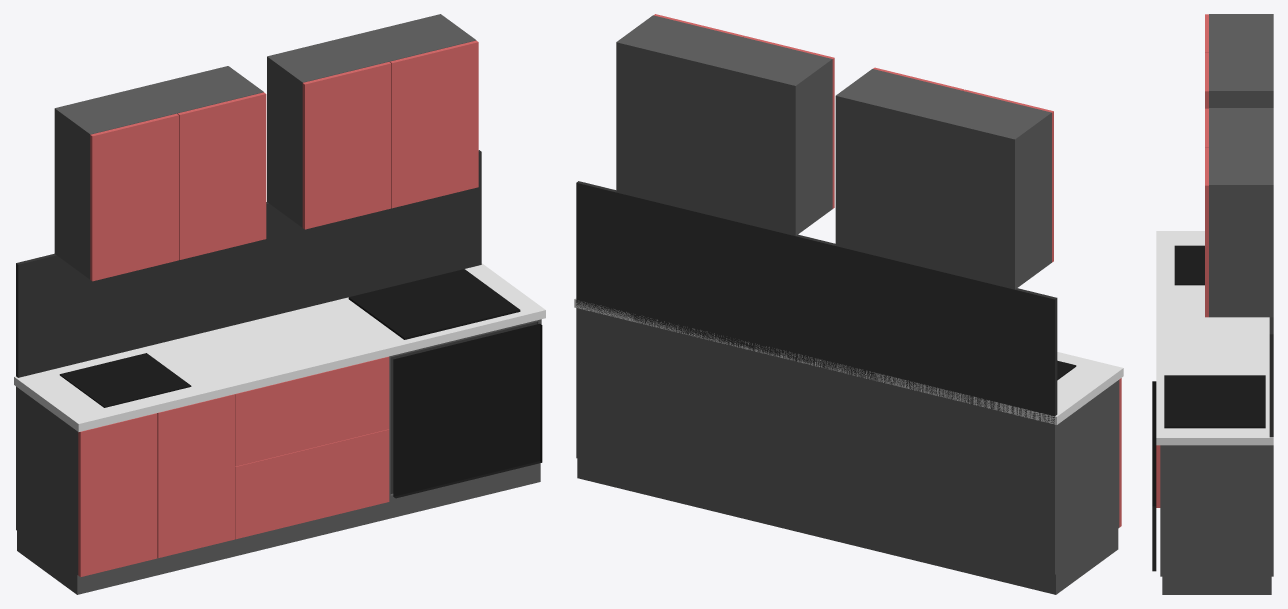
File: kitchen_perfect.glb
The picture shows the model from 3 angles, left to right: view 1: azimuth 30°, elevation 25°; view 2: azimuth 150°, elevation 25°; view 3: azimuth 270°, elevation 25°; orthographic projection. The views are drawn at different scales.
Parts seen in each view (by area): view 1: Layer_2_Countertop_Backsplash, Layer_2_Countertop_Main, Layer_4_Facades_Door_Oven, Layer_4_Facades_Door_Upper_3, Layer_4_Facades_Door_Upper_1, Layer_4_Facades_Door_Upper_4, Layer_4_Facades_Door_Upper_2, Layer_4_Facades_Door_Lower_1, Layer_4_Facades_Door_Lower_2, Layer_4_Facades_Drawer_2, Layer_4_Facades_Drawer_1, Layer_1_Frame_Plinth (+7 smaller); view 2: Layer_2_Countertop_Backsplash, Layer_1_Frame_Cabinet_Upper_1_back, Layer_1_Frame_Cabinet_Upper_2_back, Layer_1_Frame_Cabinet_Lower_3_back, Layer_1_Frame_Cabinet_Lower_1_back, Layer_1_Frame_Cabinet_Lower_2_back, Layer_1_Frame_Plinth, Layer_1_Frame_Cabinet_Lower_1_wall_l, Layer_1_Frame_Cabinet_Upper_2_top, Layer_1_Frame_Cabinet_Upper_1_top, Layer_1_Frame_Cabinet_Upper_1_wall_l, Layer_1_Frame_Cabinet_Upper_2_wall_l (+5 smaller); view 3: Layer_1_Frame_Cabinet_Lower_3_wall_r, Layer_2_Countertop_Main, Layer_1_Frame_Cabinet_Upper_2_wall_r, Layer_3_Appliances_Cooktop, Layer_1_Frame_Cabinet_Upper_1_top, Layer_1_Frame_Cabinet_Upper_2_top, Layer_1_Frame_Plinth, Layer_2_Countertop_Sink, Layer_1_Frame_Cabinet_Upper_1_wall_r, Layer_4_Facades_Door_Oven, Layer_4_Facades_Door_Upper_4, Layer_2_Countertop_Backsplash (+2 smaller).
Boxes of the visible parts, left/top/right/bottom form: Layer_2_Countertop_Backsplash: left=16, top=150, right=481, bottom=377; Layer_2_Countertop_Main: left=14, top=263, right=545, bottom=431; Layer_4_Facades_Door_Oven: left=393, top=323, right=542, bottom=498; Layer_4_Facades_Door_Upper_3: left=302, top=62, right=391, bottom=229; Layer_4_Facades_Door_Upper_1: left=90, top=113, right=178, bottom=281; Layer_4_Facades_Door_Upper_4: left=390, top=40, right=478, bottom=208; Layer_4_Facades_Door_Upper_2: left=177, top=92, right=266, bottom=259; Layer_4_Facades_Door_Lower_1: left=78, top=413, right=157, bottom=576; Layer_4_Facades_Door_Lower_2: left=157, top=394, right=234, bottom=558; Layer_4_Facades_Drawer_2: left=235, top=429, right=389, bottom=539; Layer_4_Facades_Drawer_1: left=235, top=356, right=389, bottom=466; Layer_1_Frame_Plinth: left=17, top=463, right=540, bottom=594; Layer_2_Countertop_Backsplash: left=576, top=181, right=1057, bottom=424; Layer_1_Frame_Cabinet_Upper_1_back: left=839, top=96, right=1011, bottom=288; Layer_1_Frame_Cabinet_Upper_2_back: left=619, top=43, right=791, bottom=231; Layer_1_Frame_Cabinet_Lower_3_back: left=580, top=312, right=732, bottom=495; Layer_1_Frame_Cabinet_Lower_1_back: left=899, top=386, right=1051, bottom=572; Layer_1_Frame_Cabinet_Lower_2_back: left=739, top=351, right=891, bottom=531; Layer_1_Frame_Plinth: left=577, top=458, right=1118, bottom=594; Layer_1_Frame_Cabinet_Lower_1_wall_l: left=1051, top=380, right=1119, bottom=574; Layer_1_Frame_Cabinet_Upper_2_top: left=619, top=16, right=828, bottom=88; Layer_1_Frame_Cabinet_Upper_1_top: left=839, top=69, right=1047, bottom=141; Layer_1_Frame_Cabinet_Upper_1_wall_l: left=1011, top=111, right=1051, bottom=289; Layer_1_Frame_Cabinet_Upper_2_wall_l: left=792, top=58, right=832, bottom=235; Layer_1_Frame_Cabinet_Lower_3_wall_r: left=1160, top=445, right=1273, bottom=576; Layer_2_Countertop_Main: left=1156, top=231, right=1273, bottom=445; Layer_1_Frame_Cabinet_Upper_2_wall_r: left=1209, top=183, right=1273, bottom=317; Layer_3_Appliances_Cooktop: left=1164, top=375, right=1265, bottom=428; Layer_1_Frame_Cabinet_Upper_1_top: left=1209, top=15, right=1273, bottom=89; Layer_1_Frame_Cabinet_Upper_2_top: left=1209, top=109, right=1273, bottom=183; Layer_1_Frame_Plinth: left=1162, top=576, right=1271, bottom=594; Layer_2_Countertop_Sink: left=1174, top=245, right=1204, bottom=285; Layer_1_Frame_Cabinet_Upper_1_wall_r: left=1209, top=89, right=1273, bottom=107; Layer_4_Facades_Door_Oven: left=1152, top=381, right=1156, bottom=571; Layer_4_Facades_Door_Upper_4: left=1205, top=147, right=1208, bottom=317; Layer_2_Countertop_Backsplash: left=1269, top=317, right=1273, bottom=437.
Bounding box in the file's own units: 2.42 × 2.14 × 0.6.
